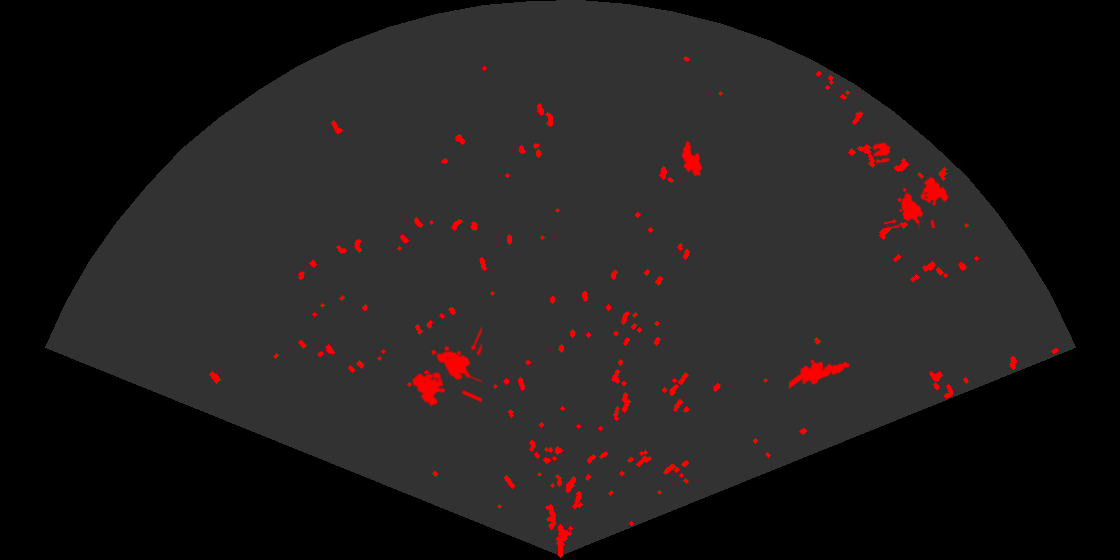AUV: (680, 139, 704, 178)
ball: (871, 141, 892, 165)
cage: (410, 325, 482, 408), (884, 175, 951, 228)
frogman: (789, 358, 851, 391)
